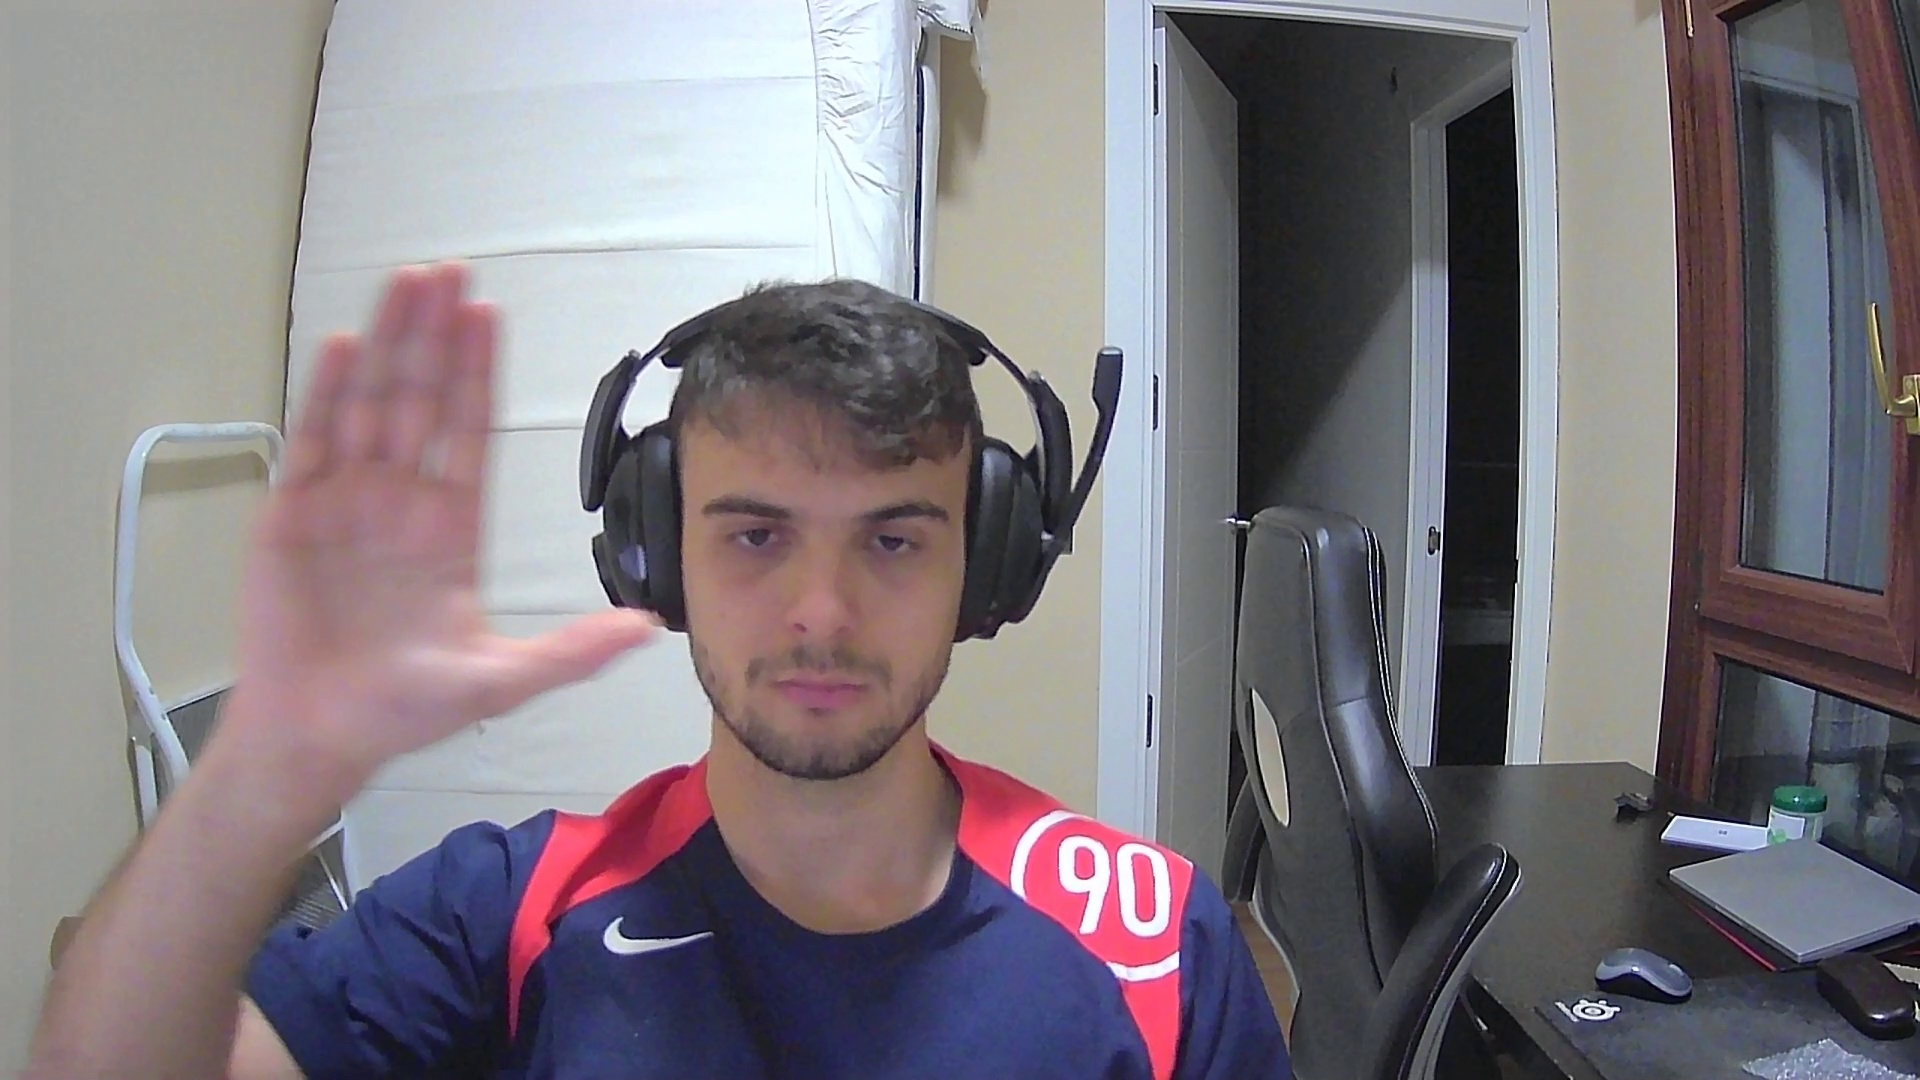Palm: (218, 255, 650, 716)
